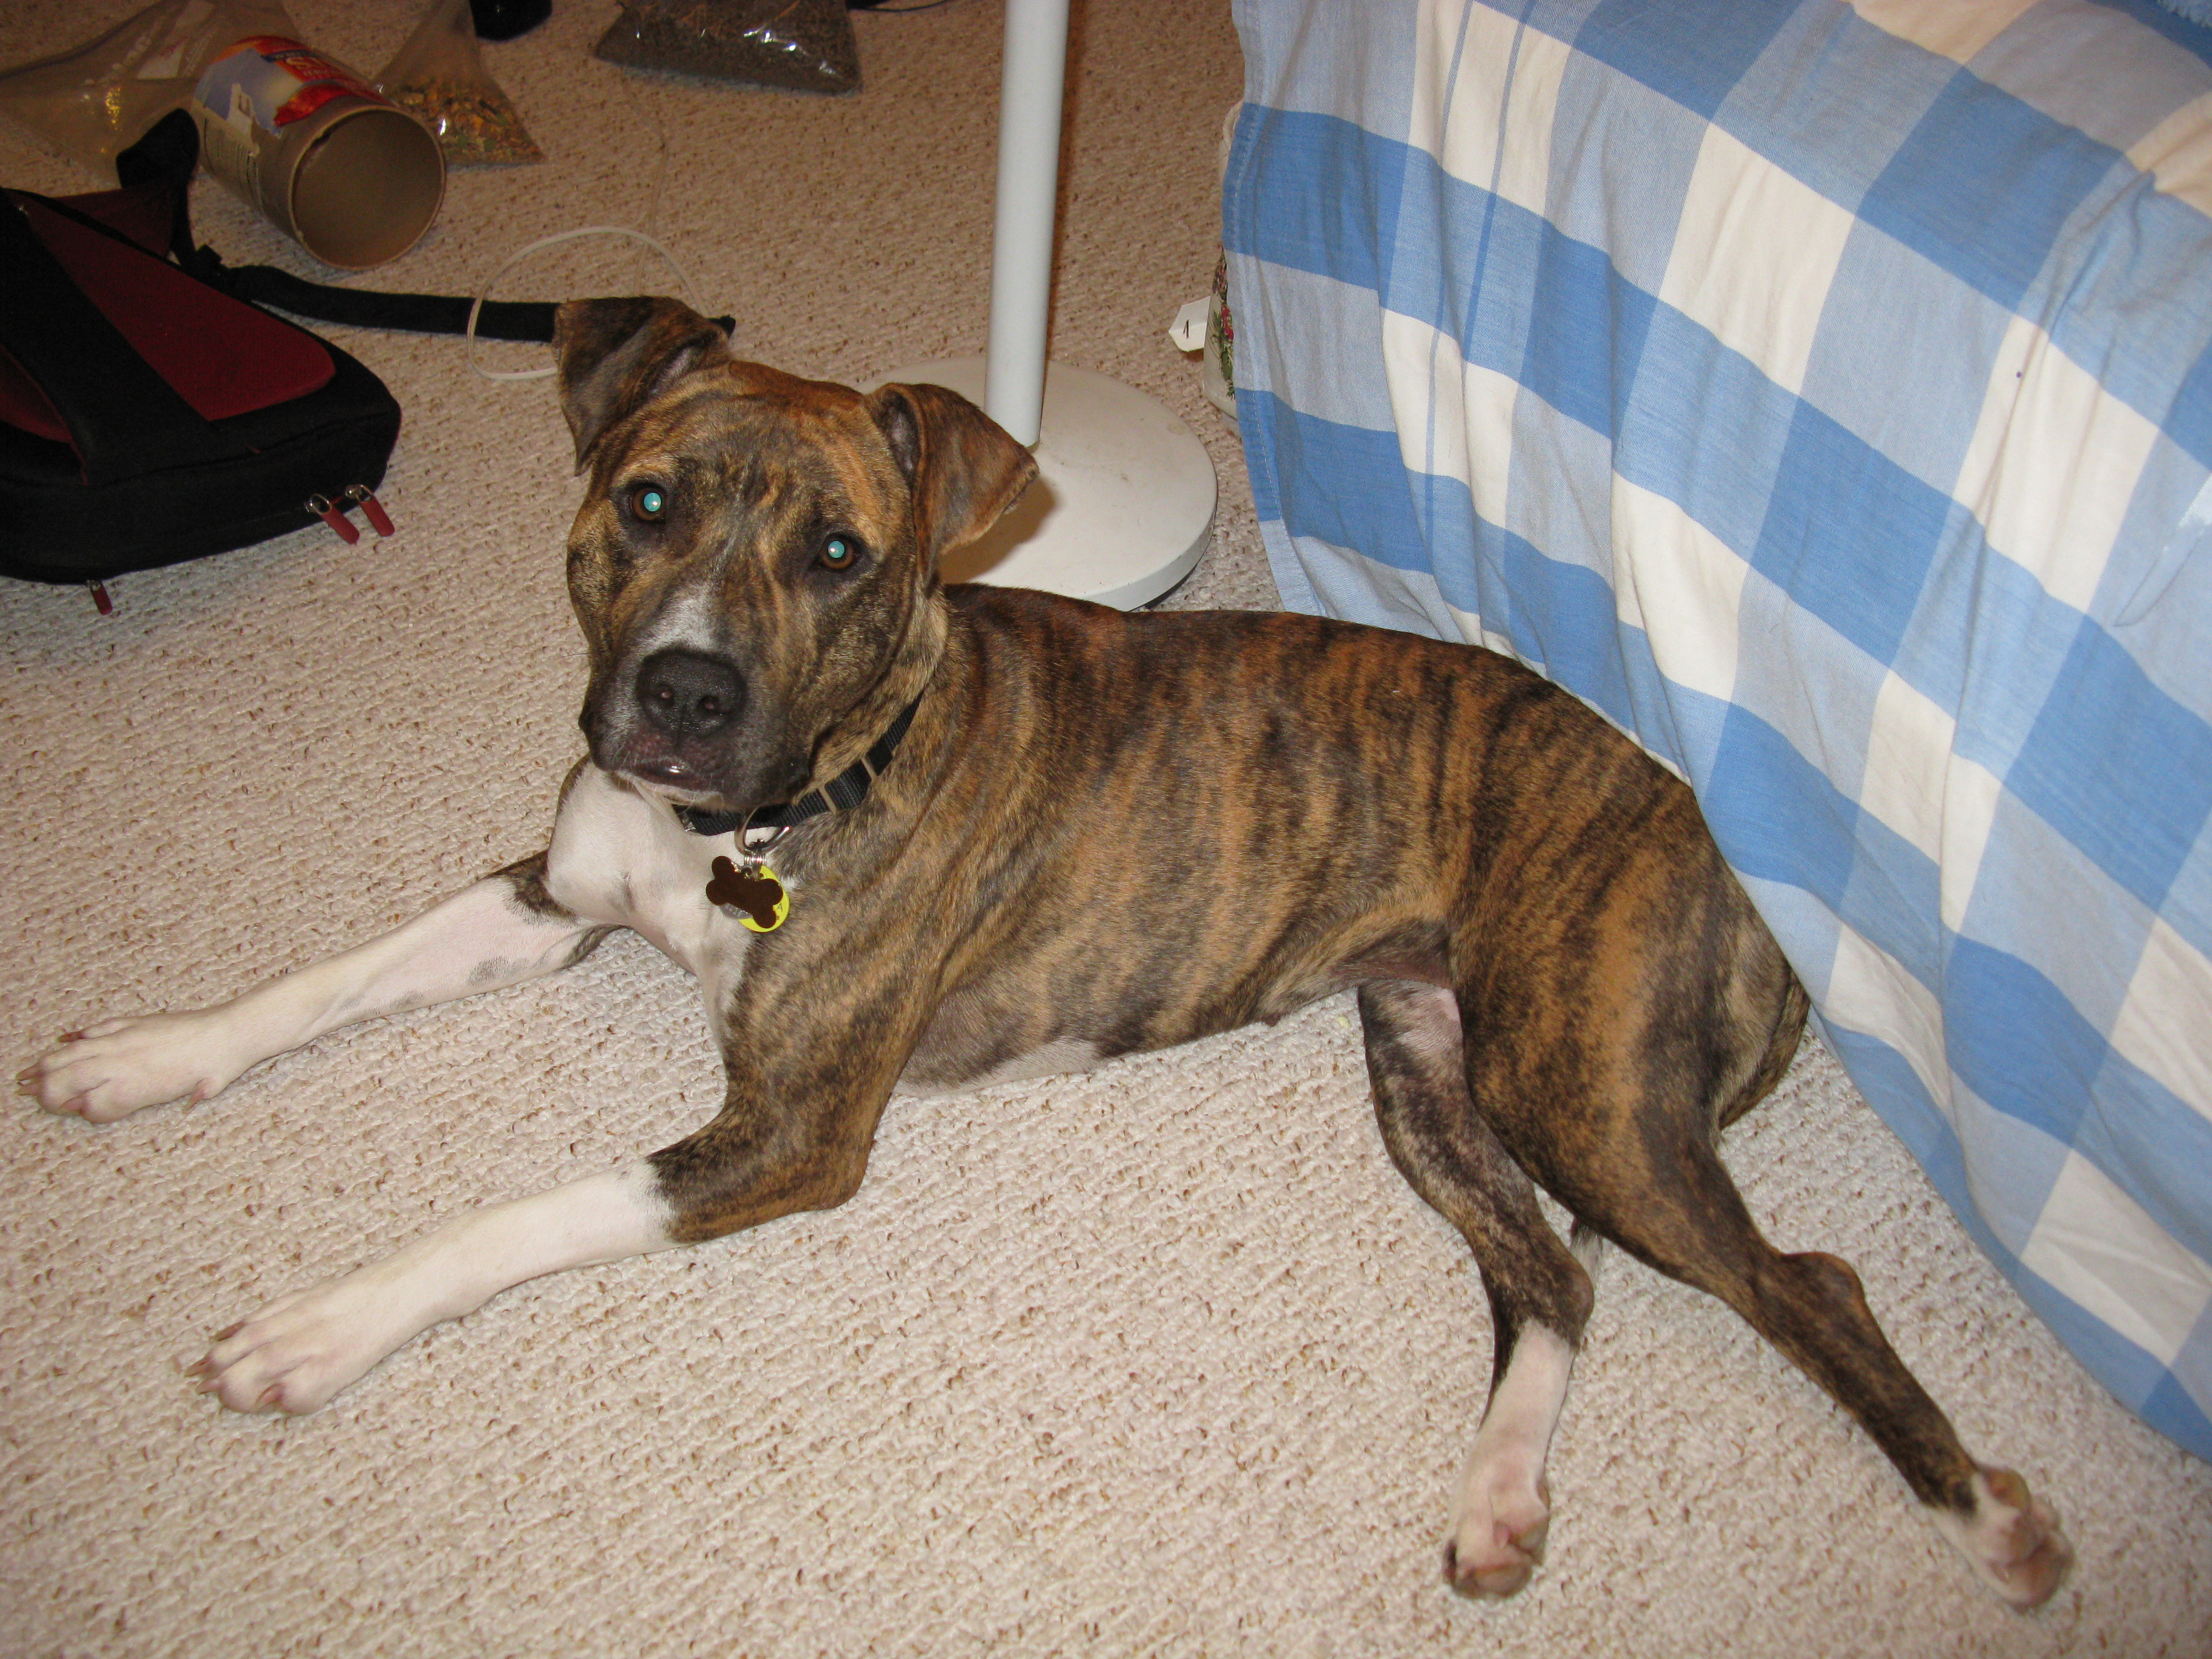am_pit_bull_terrier: (9, 295, 2087, 1614)
